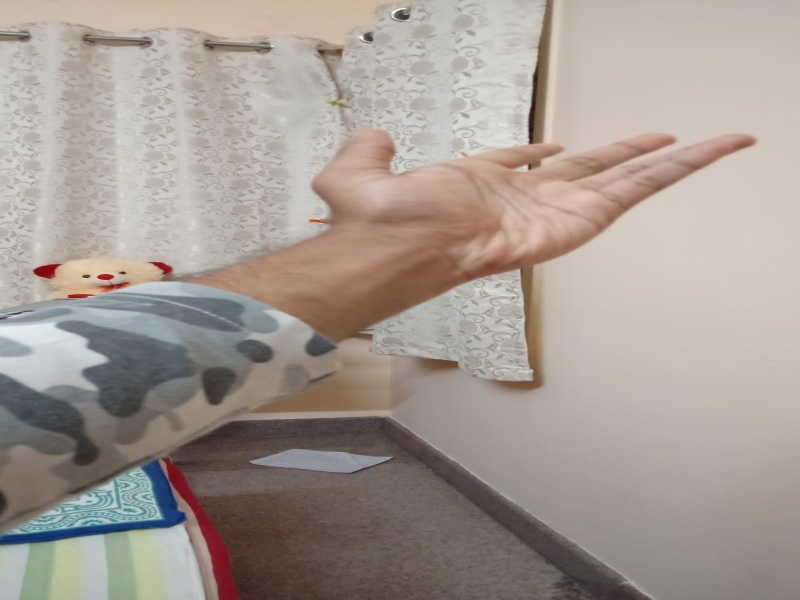Hand: (305, 116, 764, 292)
